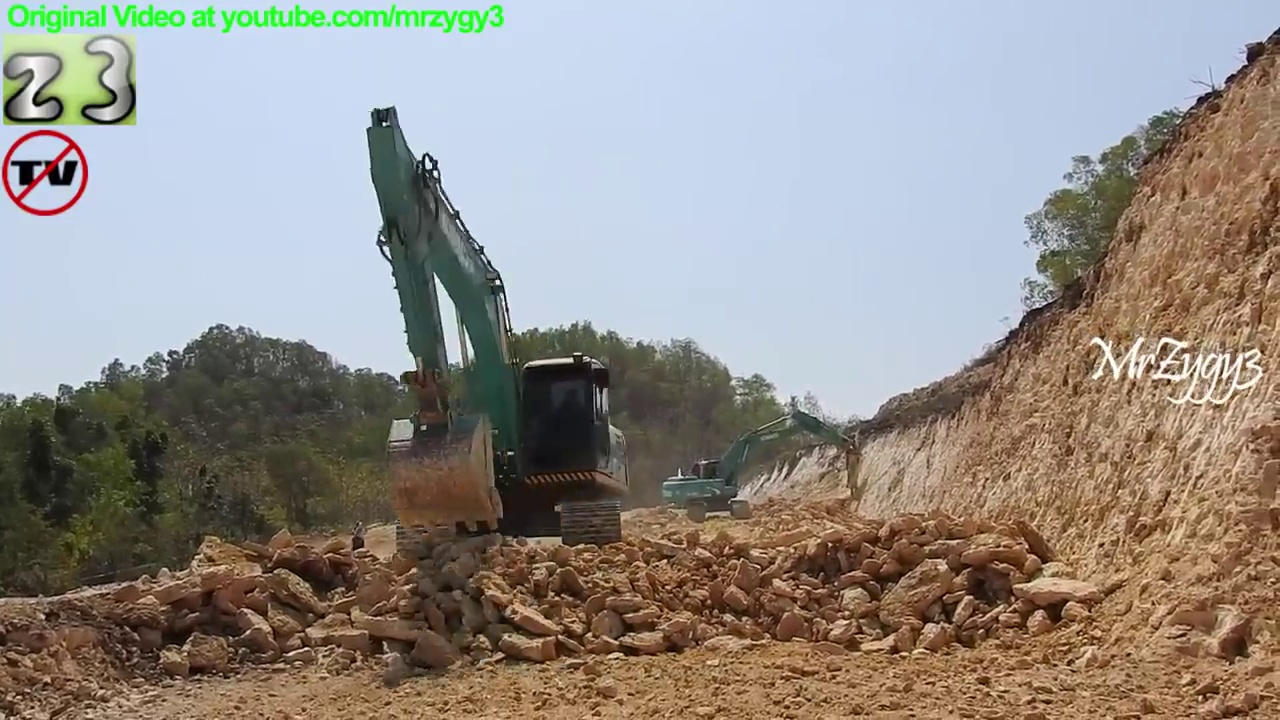excavator: (360, 102, 636, 567)
excavator breaker: (658, 406, 868, 526)
